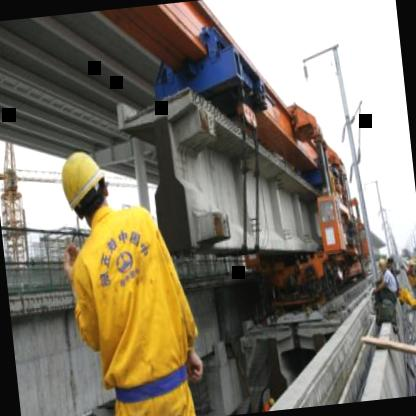helmet: (50, 136, 120, 232)
